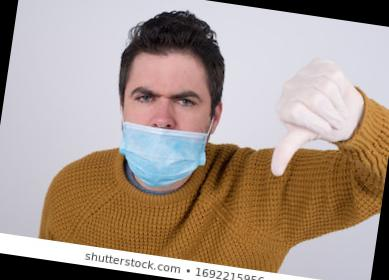mask_weared_incorrect: (113, 72, 214, 194)
